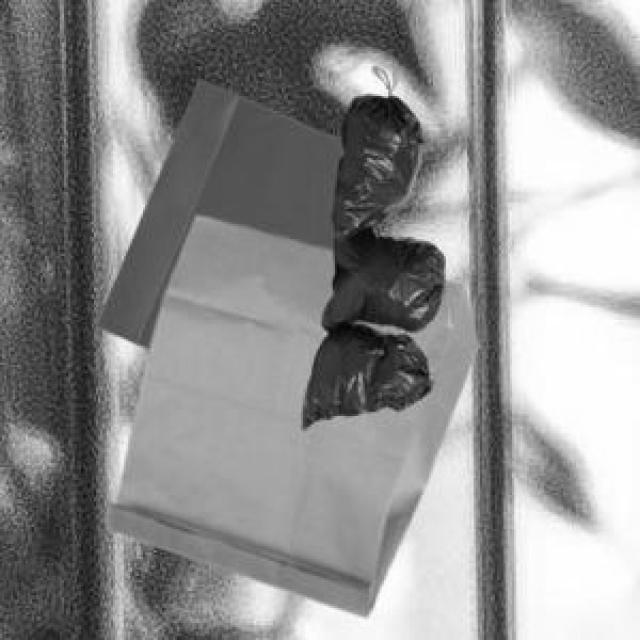miscellaneous trash: (299, 92, 447, 427)
paper: (102, 213, 474, 612), (92, 76, 341, 346)
